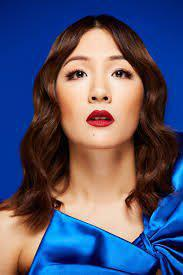Sober: (62, 34, 142, 140)
